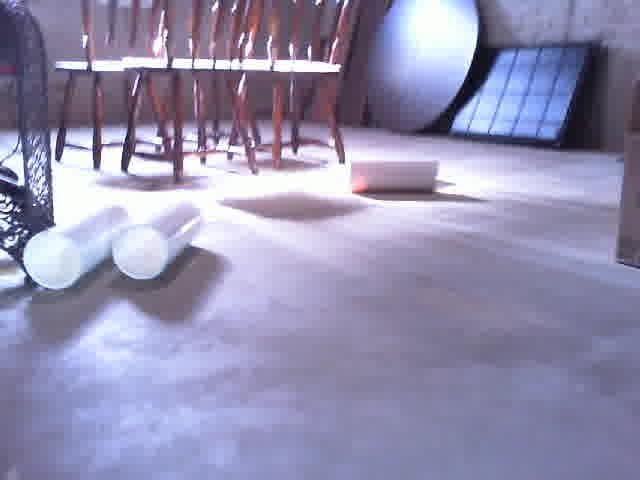coral: (24, 202, 135, 291), (116, 201, 207, 277), (349, 156, 444, 193)
